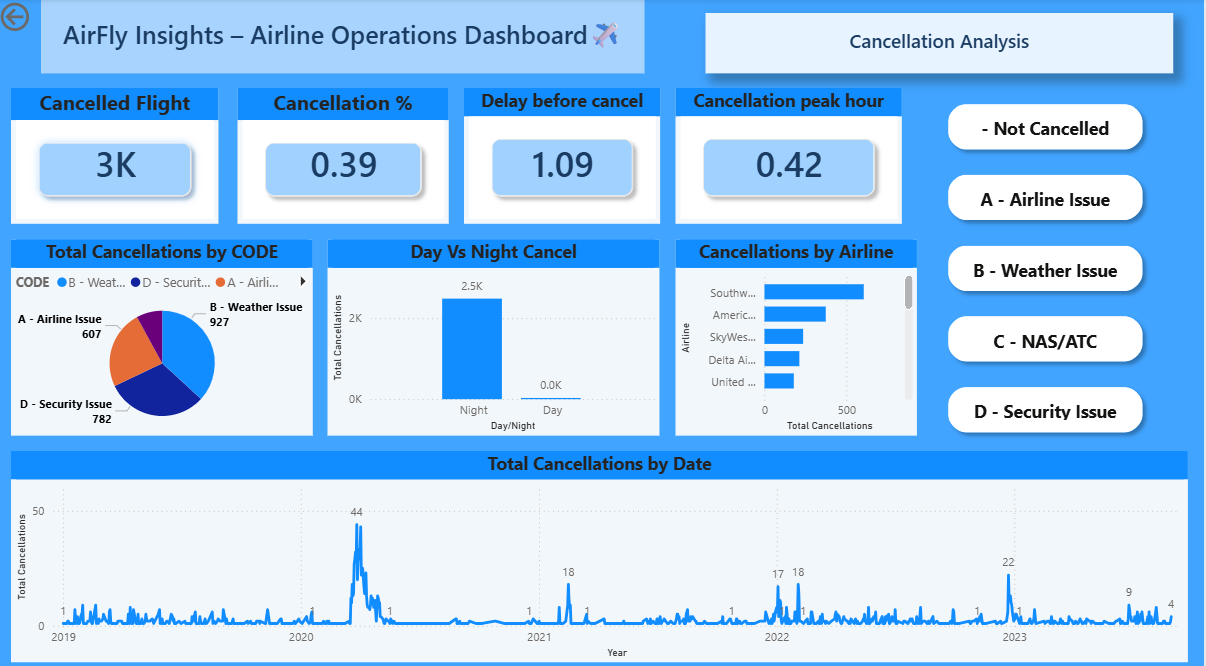

This screenshot's page, from the dashboard's own definition file:
{"tool":"powerbi","page":{"name":"Cancellation Analysis","canvas":[1280,720],"ordinal":2},"visuals":[{"type":"textbox","box":[48,0,640,80],"z":0},{"type":"cardVisual","title":"Cancelled Flight ","fields":{"Data":["data.Total Cancellations"]},"box":[16,96,220,144],"z":1000},{"type":"cardVisual","title":"Cancellation %","fields":{"Data":["data.Cancellation Rate"]},"box":[256,96,224,144],"z":2000},{"type":"cardVisual","title":"Delay before cancel","fields":{"Data":["data.Avg Delay Before Cancel"]},"box":[496,96,208,144],"z":3000},{"type":"actionButton","box":[752,16,496,64],"z":4000},{"type":"actionButton","box":[0,0,100,40],"z":5000},{"type":"cardVisual","title":" Cancellation peak hour","fields":{"Data":["data.Delayed Flights %"]},"box":[720,96,240,144],"z":6000},{"type":"pieChart","title":"Total Cancellations by CODE","fields":{"Y":["data.Total Cancellations"],"Category":["data.Cancellation Code Label"]},"box":[16,256,320,208],"z":7000},{"type":"barChart","title":"Cancellations by Airline","fields":{"Category":["data.Airline"],"Y":["data.Total Cancellations"]},"box":[720,256,256,208],"z":8000},{"type":"clusteredColumnChart","title":"Day Vs Night Cancel","fields":{"Category":["data.Day/Night"],"Y":["data.Total Cancellations"]},"box":[352,256,352,208],"z":9000},{"type":"lineChart","title":"Total Cancellations by Date","fields":{"Category":["data.Date.Variation.Date Hierarchy.Year","data.Date.Variation.Date Hierarchy.Quarter","data.Date.Variation.Date Hierarchy.Month","data.Date.Variation.Date Hierarchy.Day"],"Y":["data.Total Cancellations"]},"box":[16,480,1248,224],"z":10000},{"type":"advancedSlicerVisual","fields":{"Values":["data.Cancellation Code Label"]},"box":[992,96,240,384],"z":11000}]}

Visuals, with their boxes in screenshot pixels (x1, y1, x2, y2), scaled from the page's 1280x720 canvas onto the 1206x666 screenshot:
textbox: locate(45, 0, 648, 74)
"Cancelled Flight " cardVisual: locate(15, 89, 222, 222)
"Cancellation %" cardVisual: locate(241, 89, 452, 222)
"Delay before cancel" cardVisual: locate(467, 89, 663, 222)
actionButton: locate(709, 15, 1176, 74)
actionButton: locate(0, 0, 94, 37)
" Cancellation peak hour" cardVisual: locate(678, 89, 904, 222)
"Total Cancellations by CODE" pieChart: locate(15, 237, 317, 429)
"Cancellations by Airline" barChart: locate(678, 237, 920, 429)
"Day Vs Night Cancel" clusteredColumnChart: locate(332, 237, 663, 429)
"Total Cancellations by Date" lineChart: locate(15, 444, 1191, 651)
advancedSlicerVisual - data.Cancellation Code Label: locate(935, 89, 1161, 444)
